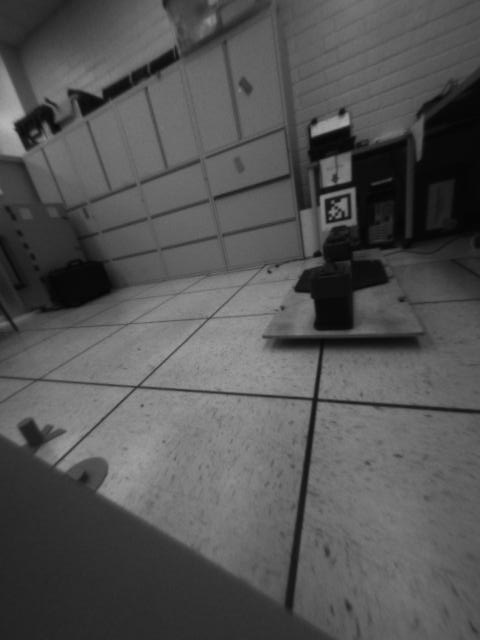X: (15, 418, 66, 449)
